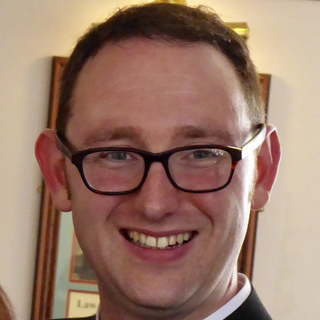eye: (92, 142, 140, 169), (176, 142, 222, 166)
